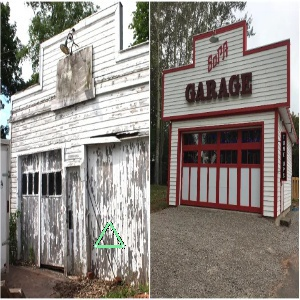triangle: (90, 220, 128, 250)
